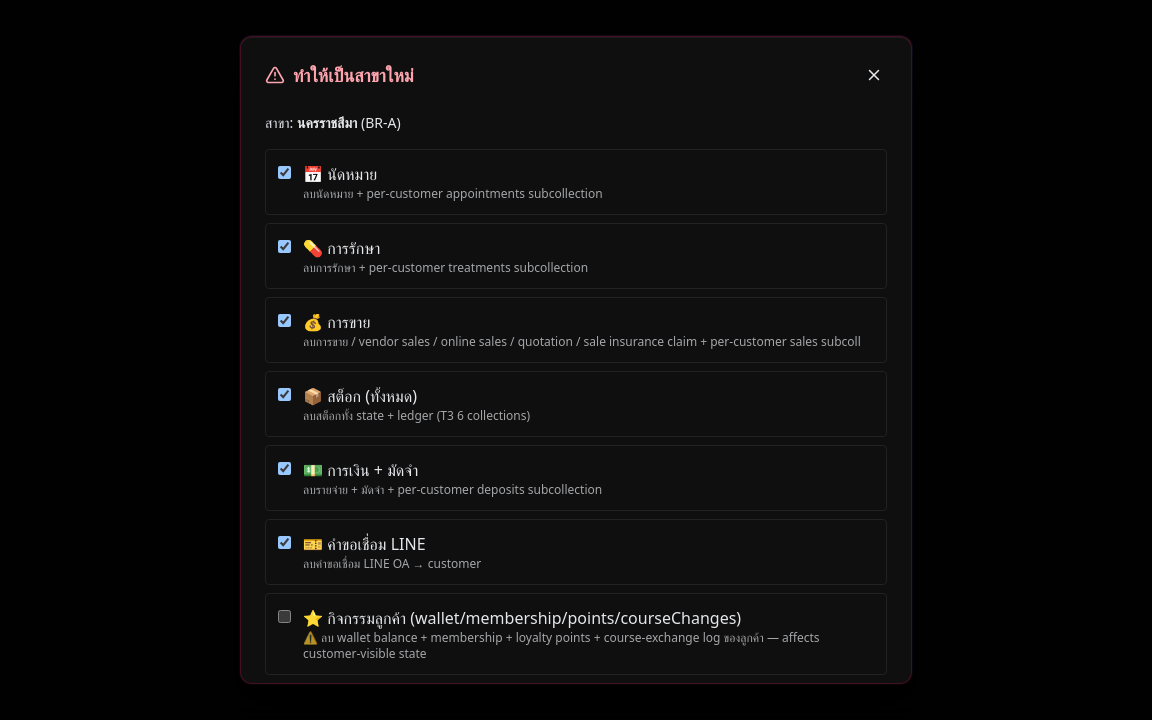
Test: F1 MakeFreshModal — Rule I full-flow simulate › F1.2 — preview button disabled when zero buckets ticked
Click the 1st checkbox. click: (284, 172)
box: [278, 166, 291, 179]
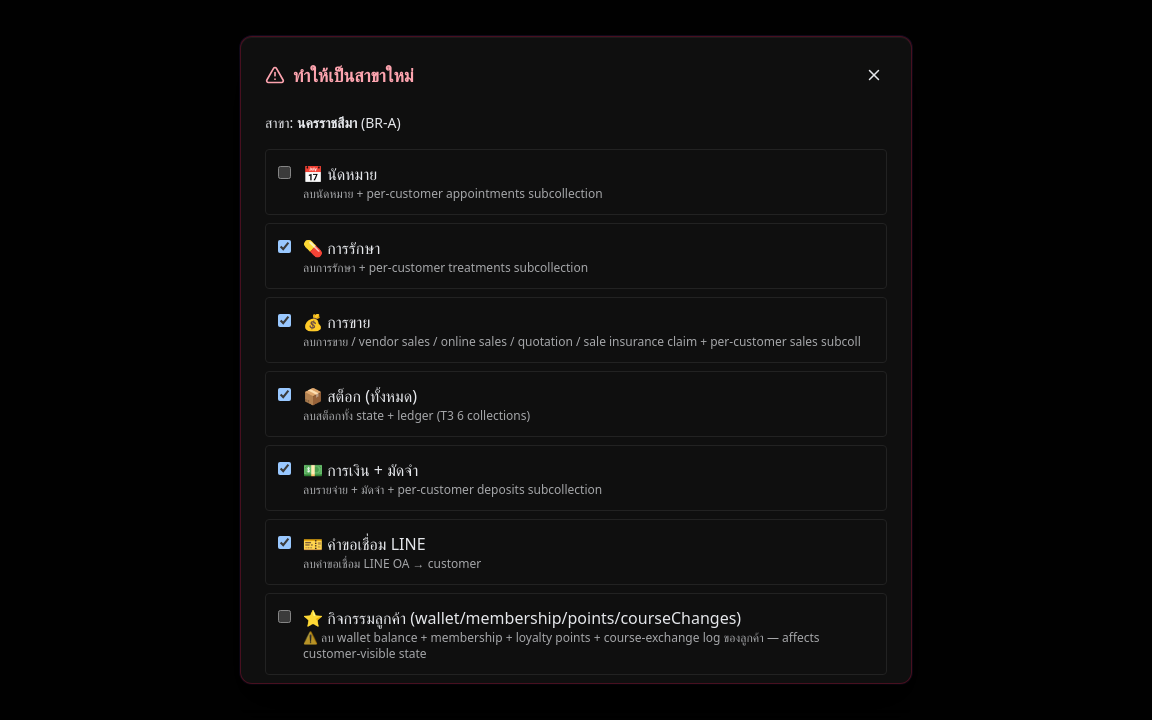
Click the 2nd checkbox. click: (284, 246)
box: [278, 240, 291, 253]
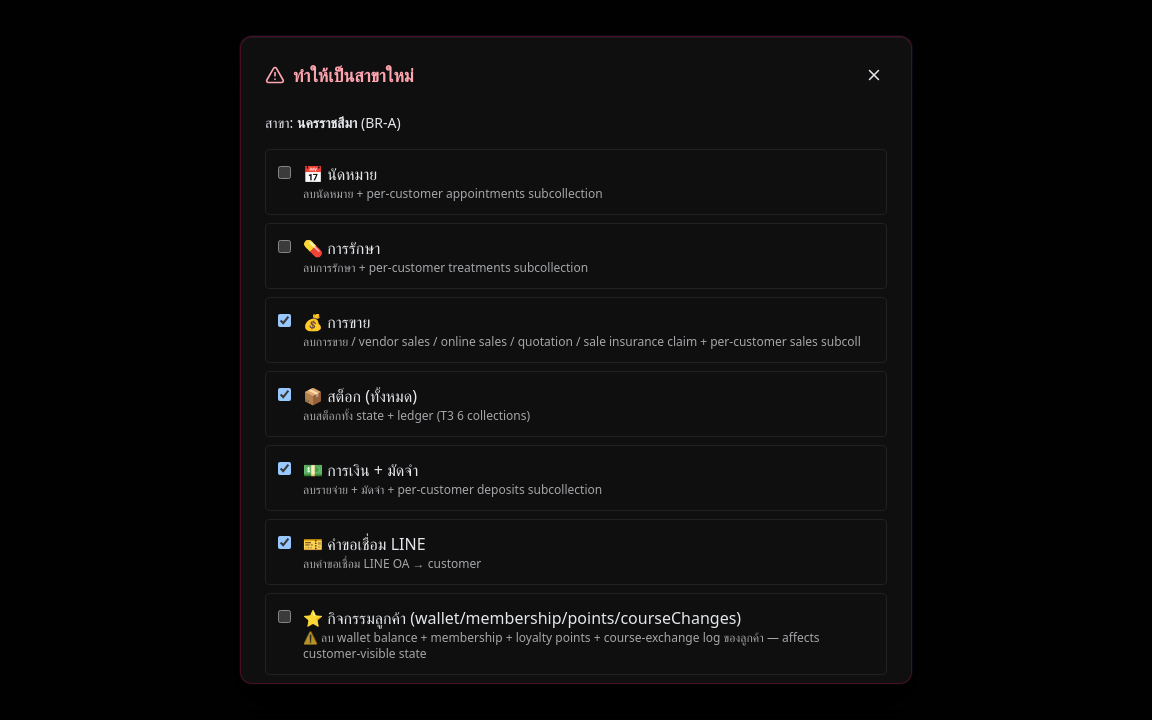
Click the 3rd checkbox. click: (284, 320)
box: [278, 314, 291, 327]
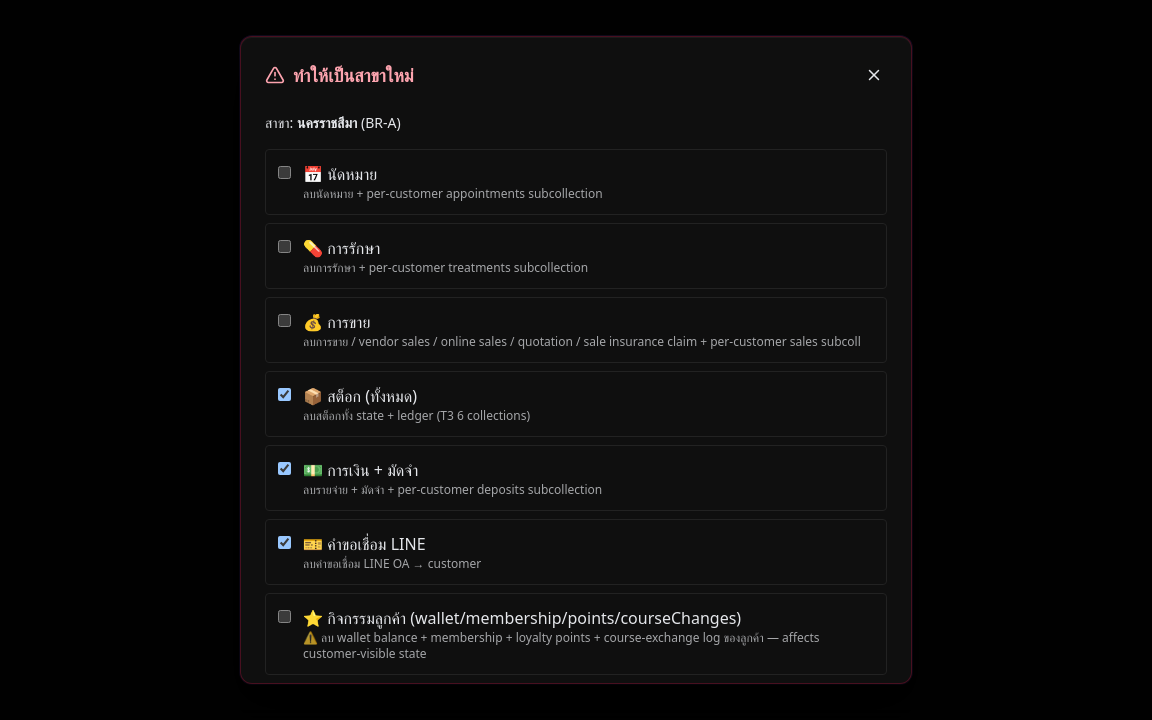
Click the 4th checkbox. click: (284, 394)
box: [278, 388, 291, 401]
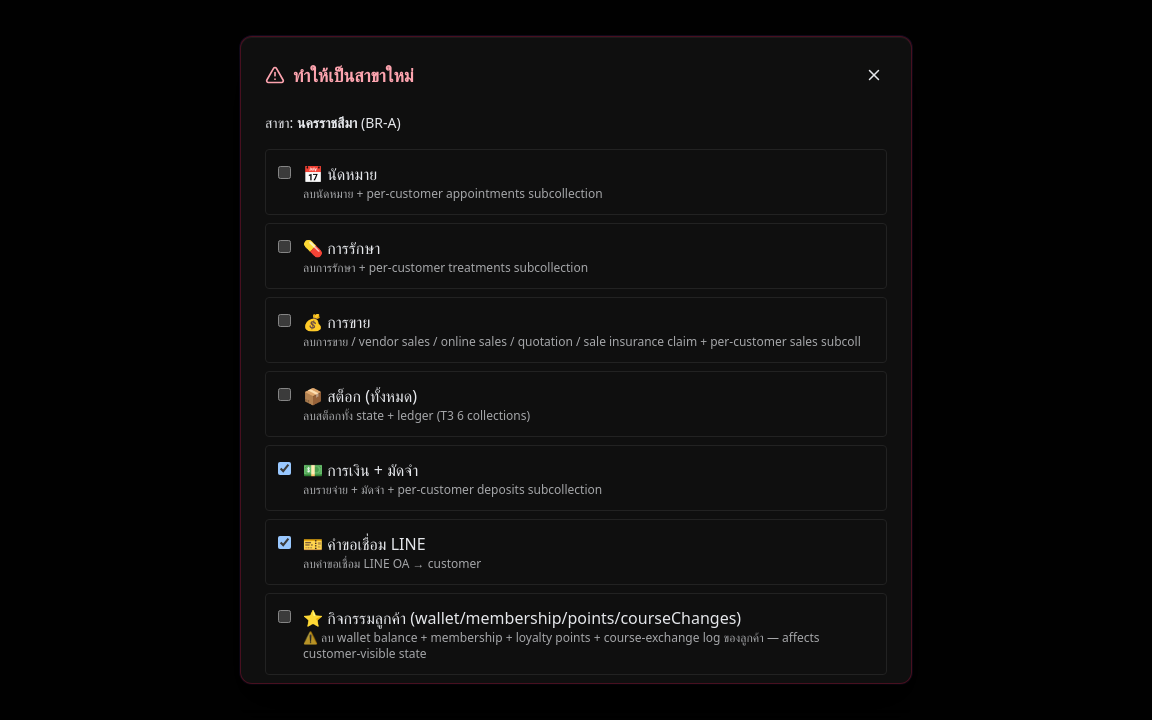
Click the 5th checkbox. click: (284, 468)
box: [278, 462, 291, 475]
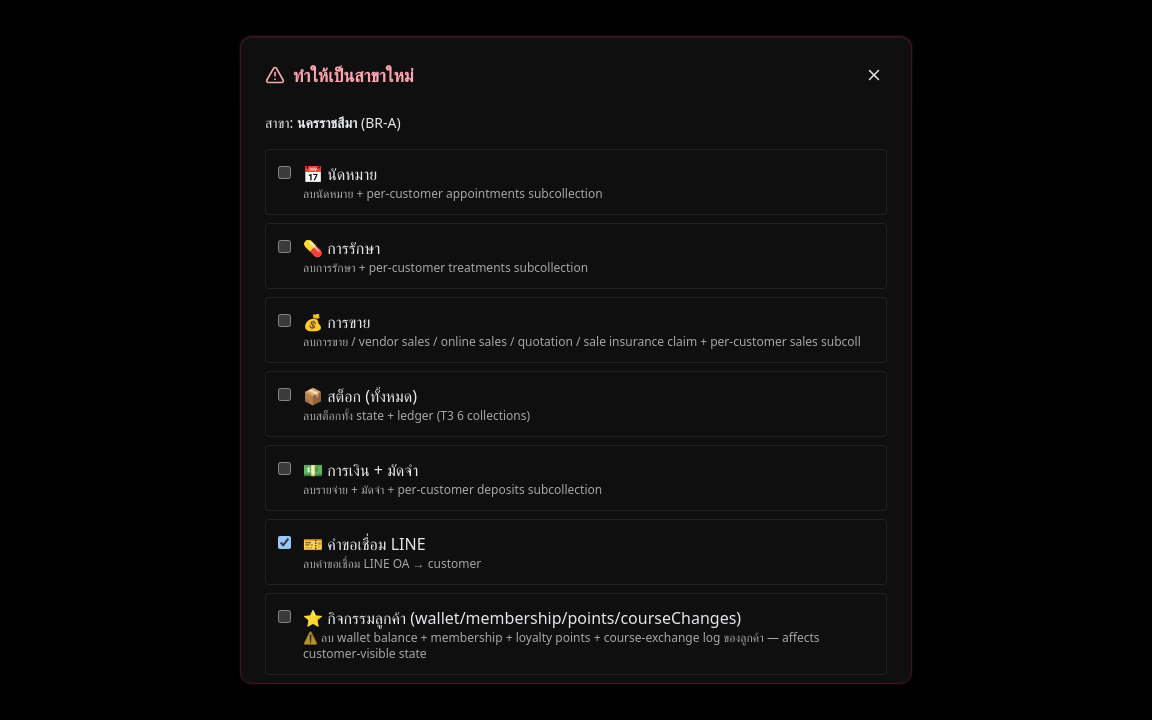
Click the checkbox labelled "🎫 คำขอเชื่อม LINE ลบคำขอเชื่อม LINE OA → customer". click: (284, 542)
box: [278, 536, 291, 549]
(page scrolled)
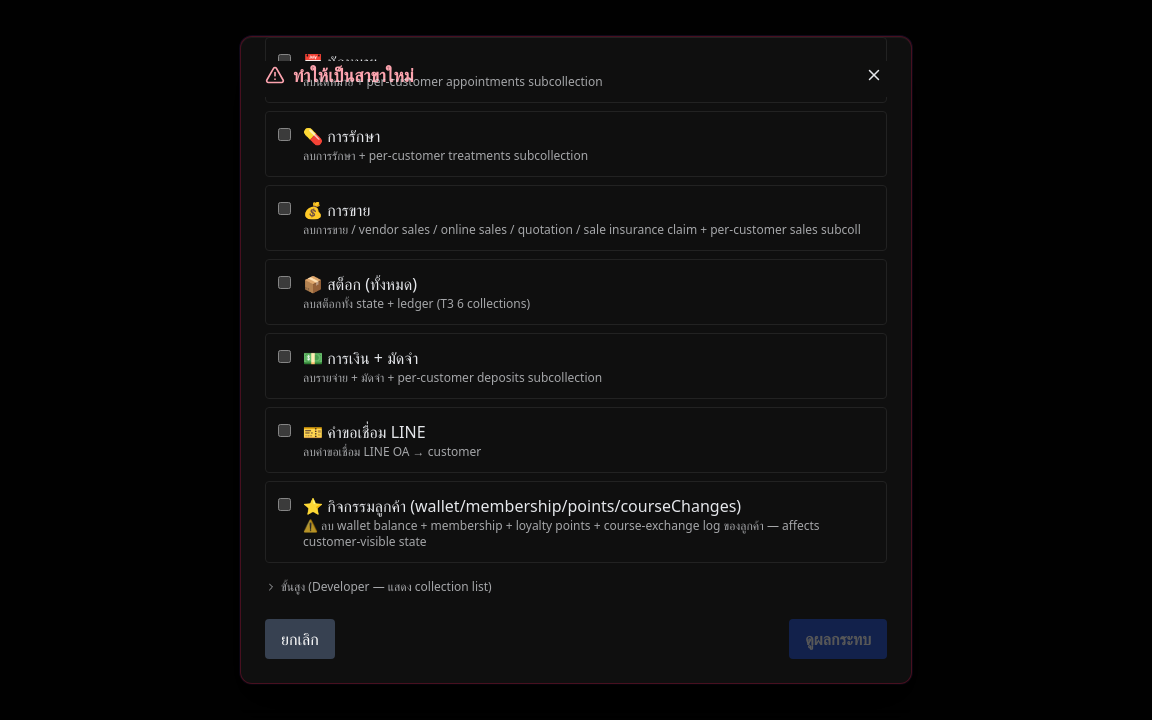
Expected: the button with test id "preview-btn" is disabled, [789, 619, 887, 659]
